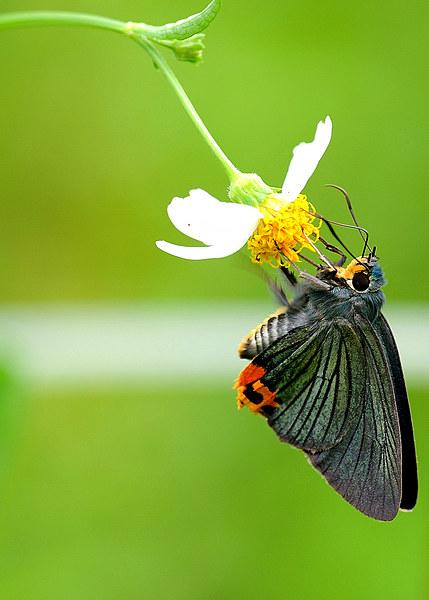Hesperiidae: (233, 191, 412, 527)
